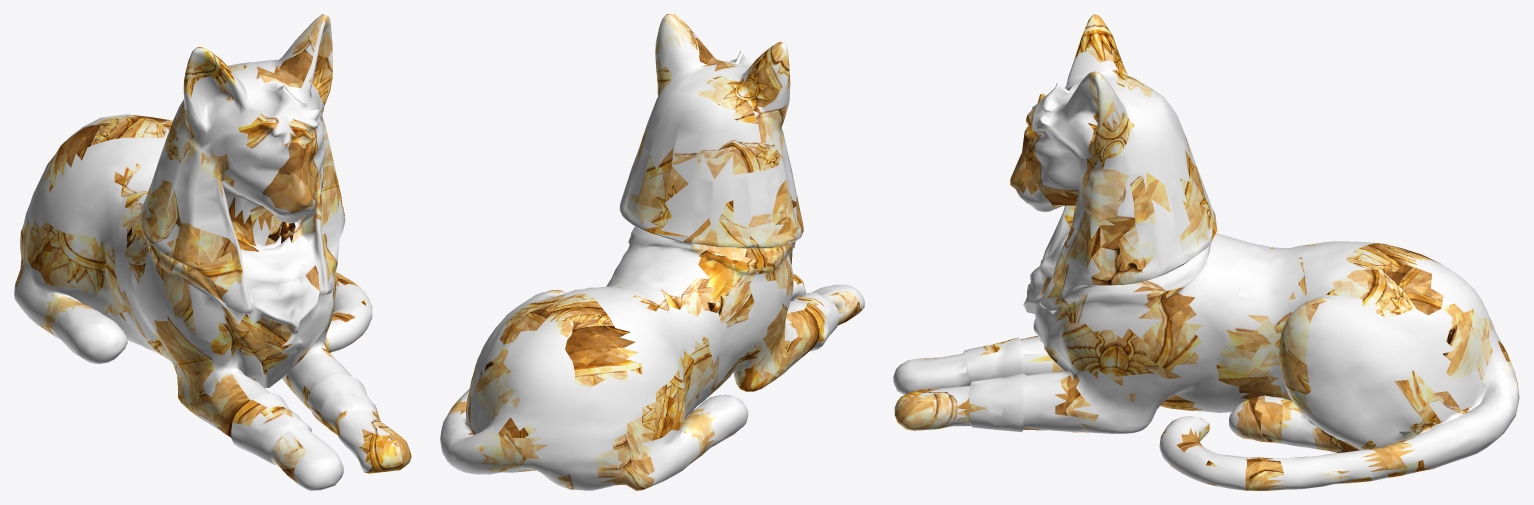
The model's file is gilded_sphinx_gold_10k.fbx.
3 renders of one model, left to right at view 1: azimuth 30°, elevation 25°; view 2: azimuth 150°, elevation 25°; view 3: azimuth 270°, elevation 25°, orthographic. The views are drawn at different scales.
Visible parts, largest first — view 1: gilded_sphinx_gold_decimated; view 2: gilded_sphinx_gold_decimated; view 3: gilded_sphinx_gold_decimated.
Part boxes in pixels (x1,y1,x2,y2): gilded_sphinx_gold_decimated: (14, 14, 411, 490); gilded_sphinx_gold_decimated: (440, 14, 864, 490); gilded_sphinx_gold_decimated: (893, 14, 1519, 490).
Bounding box in the file's own units: 0.9746 × 1.23 × 1.91.
